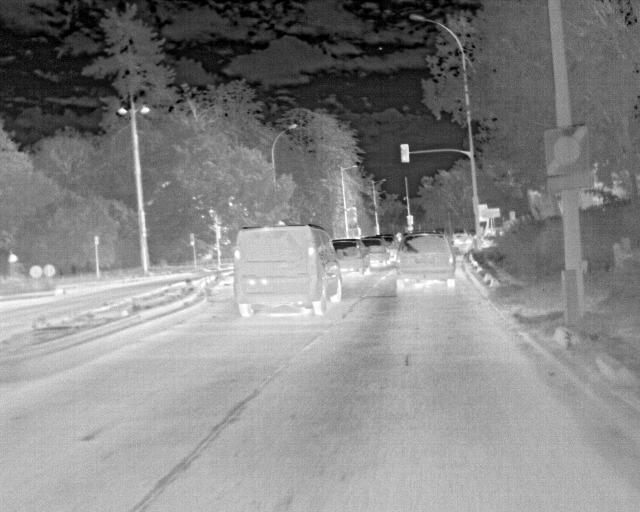car: (233, 223, 344, 317), (395, 232, 458, 288), (332, 238, 371, 276), (360, 237, 391, 266), (376, 235, 398, 261), (455, 235, 473, 244)
light: (400, 144, 409, 163), (349, 207, 356, 225), (189, 233, 194, 246), (216, 226, 220, 239), (94, 236, 99, 245)
sign: (543, 123, 591, 177), (545, 173, 593, 191), (482, 208, 500, 218), (477, 204, 487, 222), (29, 265, 42, 278), (43, 265, 56, 278), (406, 215, 413, 225), (408, 226, 414, 231)
